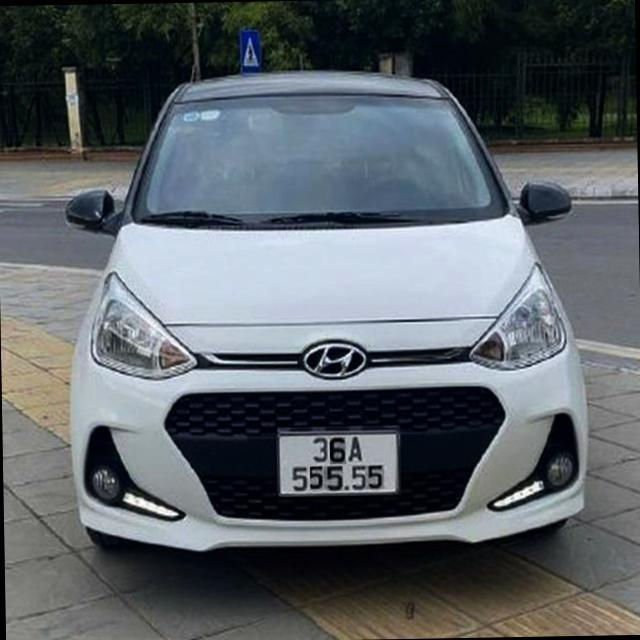car: (62, 69, 590, 580)
plate: (272, 424, 408, 500)
